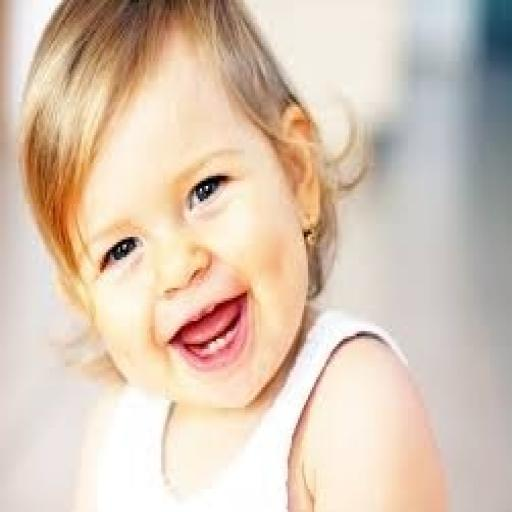laughing: (10, 0, 452, 509)
